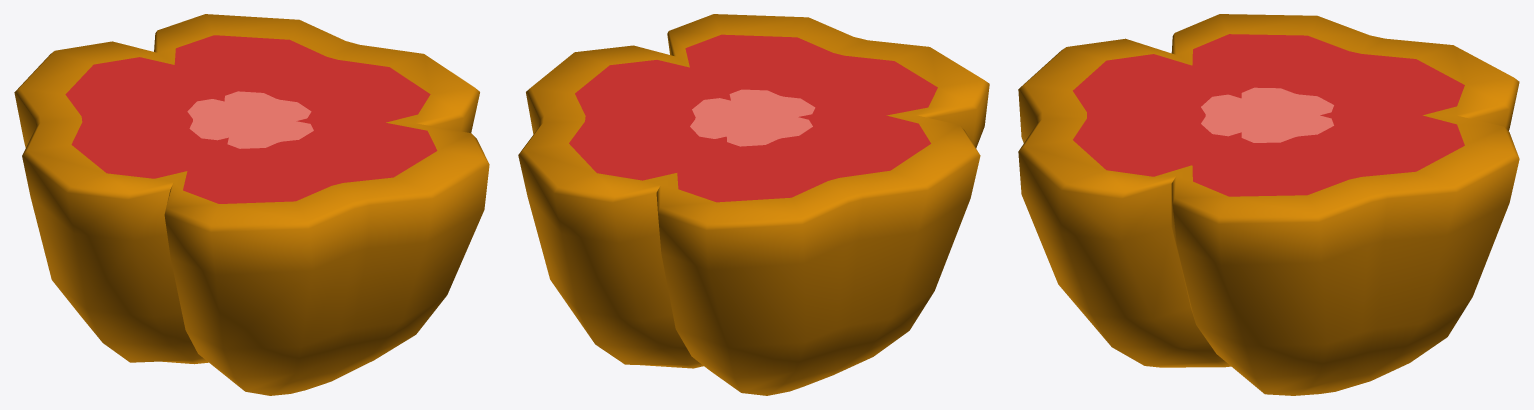
File: Pepper_yelow_half_01.fbx
3 renders of one model, left to right at view 1: azimuth 30°, elevation 25°; view 2: azimuth 150°, elevation 25°; view 3: azimuth 270°, elevation 25°, orthographic. The views are drawn at different scales.
Visible parts, largest first — view 1: Pepper_yelow_half_01; view 2: Pepper_yelow_half_01; view 3: Pepper_yelow_half_01.
Part boxes in pixels (box(x1,y1,x2,y2)): Pepper_yelow_half_01: box(14, 14, 489, 395); Pepper_yelow_half_01: box(518, 14, 989, 395); Pepper_yelow_half_01: box(1018, 14, 1519, 395).
Size of the model in its own units: 87.65 by 89.53 by 48.04.
